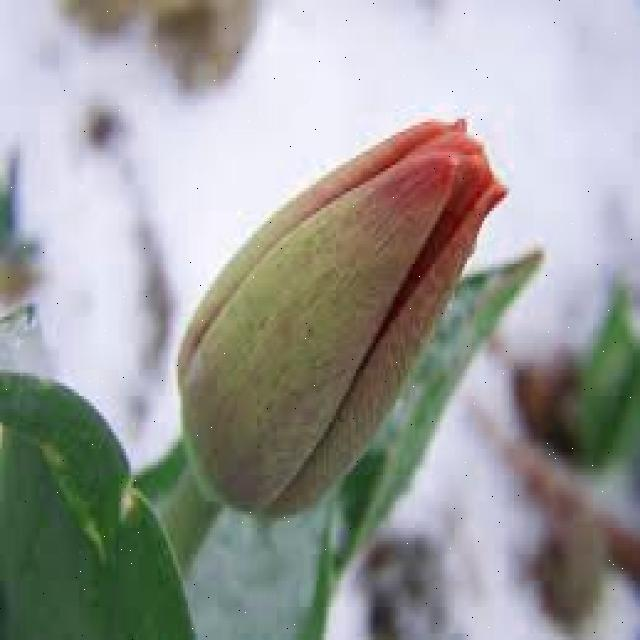Unbloomed: (170, 109, 507, 521)
